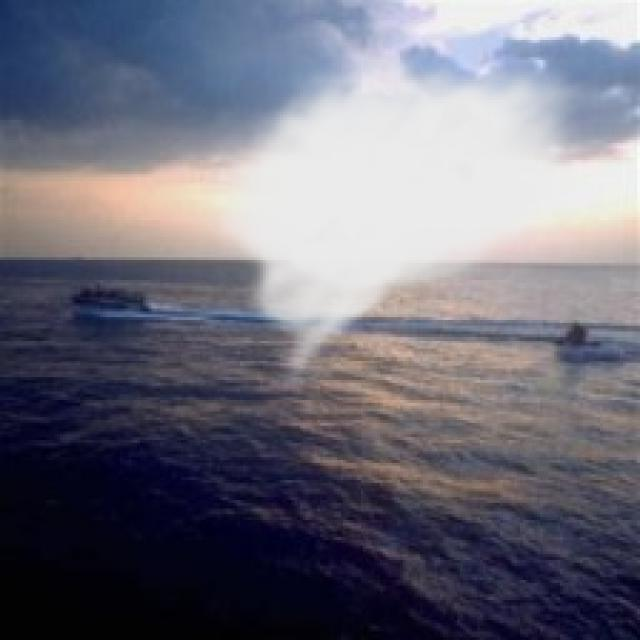smoke: (200, 46, 603, 397)
